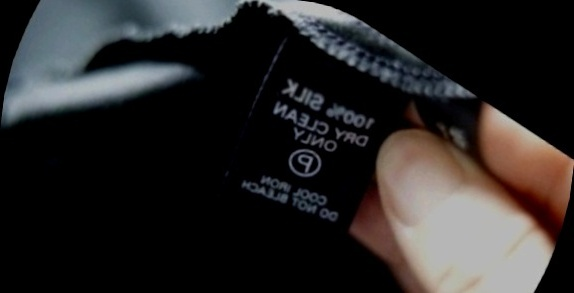dry_clean_any_solvent_except_trichloroethylene: (273, 131, 335, 192)
